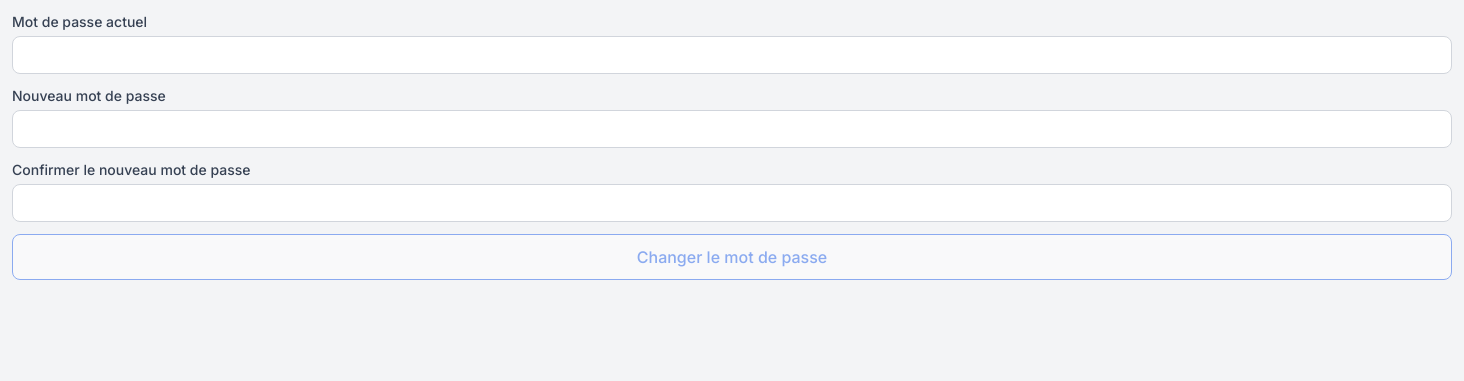
Test: re-authenticates then updates password on success
Type "OldPass1!" into the password field labelled "Mot de passe actuel" at (732, 55), box [12, 36, 1452, 74]
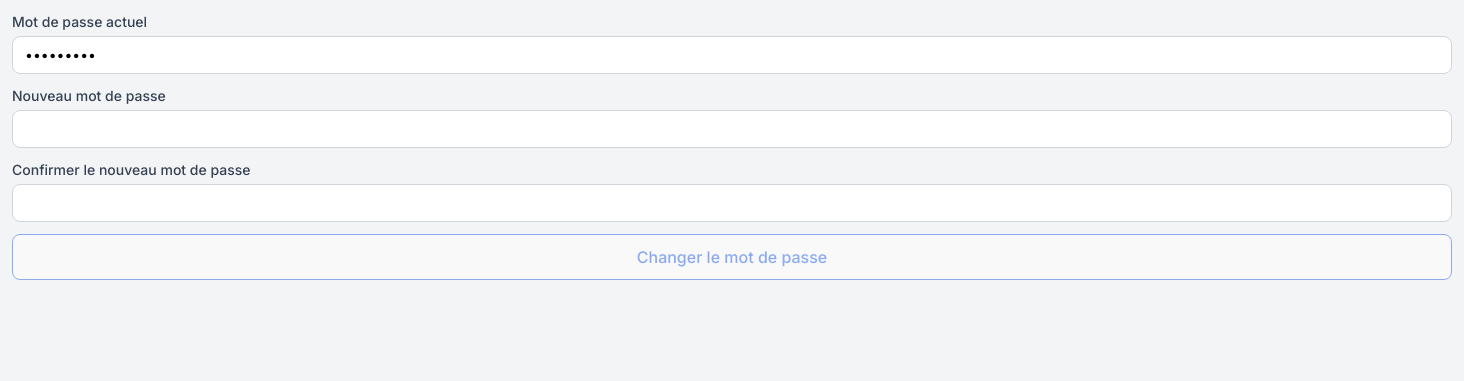
Type "NewPass1!" into the password field labelled "Nouveau mot de passe" at (732, 129), box [12, 110, 1452, 148]
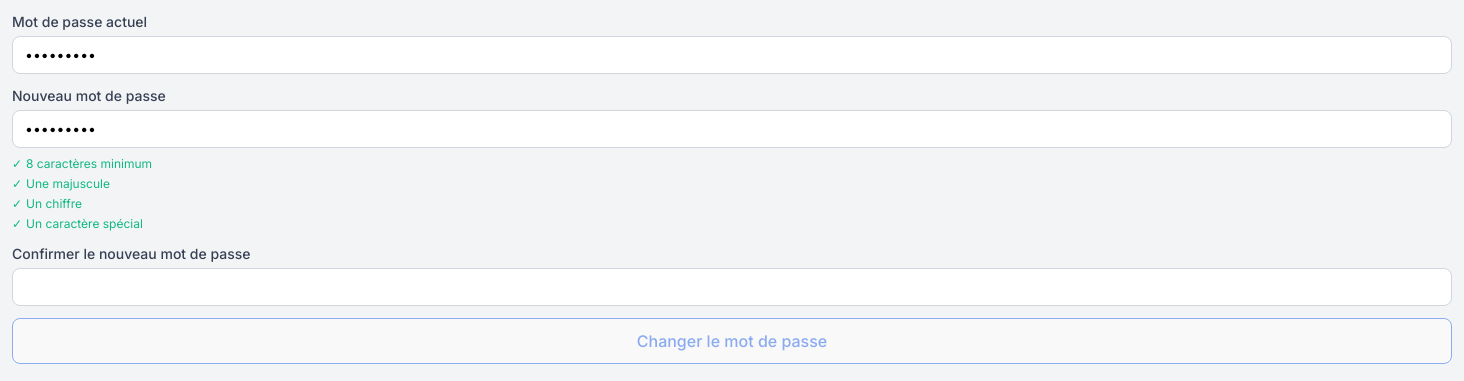
Type "NewPass1!" into the password field labelled "Confirmer le nouveau mot de passe" at (732, 287), box [12, 268, 1452, 306]
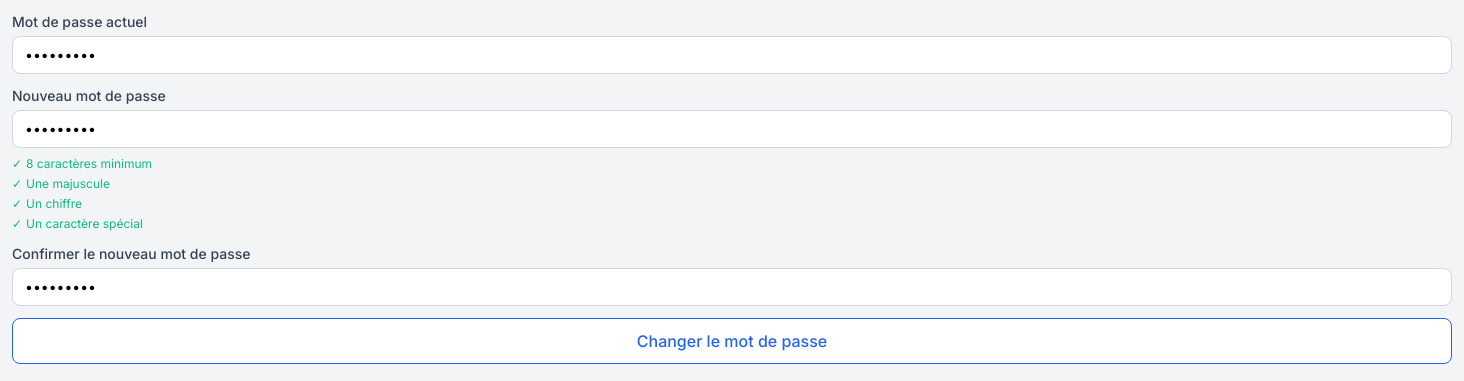
Click the button "Changer le mot de passe" at (732, 341), box [12, 318, 1452, 364]
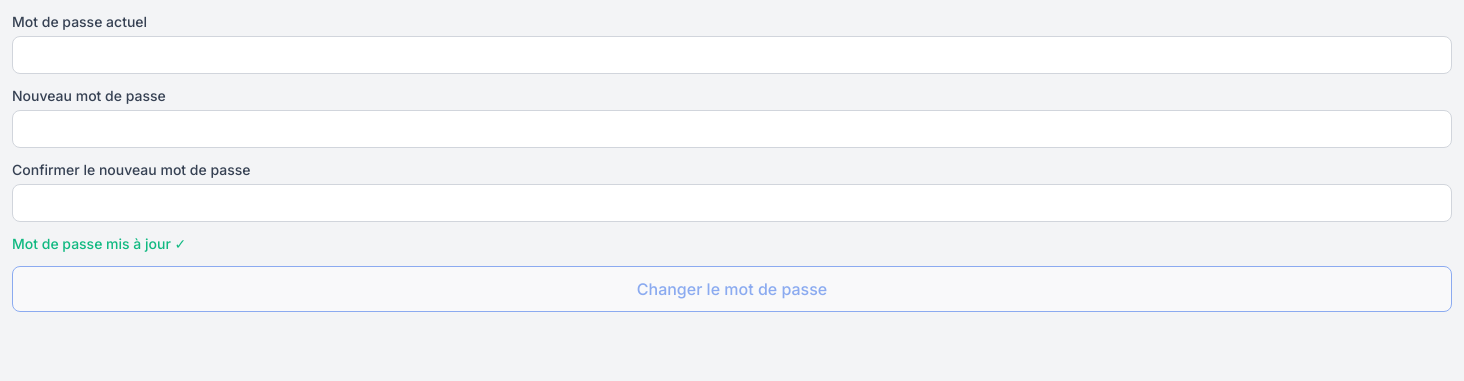
Expected: the text "Mot de passe mis à jour ✓" is shown, [12, 235, 186, 252]
